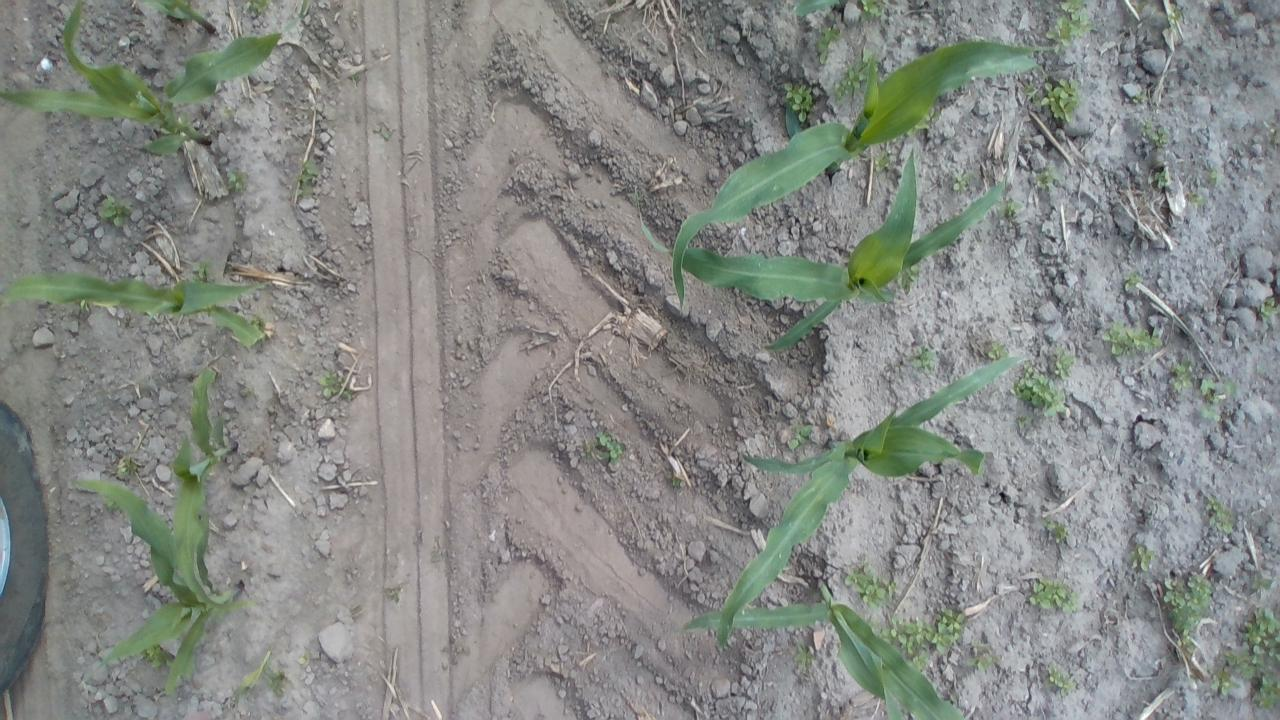Maize: (677, 38, 1045, 314), (706, 349, 1020, 660), (629, 144, 1015, 359), (673, 568, 991, 720), (72, 466, 250, 710), (8, 0, 274, 162), (0, 262, 283, 348), (171, 359, 255, 598)
Weeds: (1207, 608, 1280, 710), (879, 613, 969, 675), (1155, 566, 1211, 653), (230, 647, 296, 701), (838, 558, 900, 609), (1010, 364, 1068, 417), (1028, 74, 1082, 126), (1046, 1, 1102, 51), (1098, 322, 1166, 362), (1027, 574, 1085, 614), (837, 46, 884, 95), (1196, 374, 1235, 424), (1130, 0, 1182, 34), (1199, 496, 1237, 541), (894, 103, 936, 140), (807, 25, 846, 64), (590, 428, 630, 464), (778, 84, 814, 123), (292, 160, 322, 202), (317, 368, 355, 398), (1164, 354, 1192, 393), (1038, 516, 1071, 548), (1139, 118, 1170, 150), (99, 196, 132, 226), (906, 346, 944, 372), (966, 642, 996, 674), (1048, 346, 1076, 380), (1046, 664, 1074, 694), (143, 646, 178, 670), (1035, 164, 1063, 194), (784, 422, 816, 448), (791, 642, 817, 674), (224, 166, 253, 193), (857, 0, 888, 24), (1127, 542, 1153, 570), (984, 338, 1014, 360), (1257, 296, 1279, 325), (426, 540, 450, 566), (871, 149, 895, 175), (1182, 188, 1210, 210), (240, 0, 274, 18), (950, 165, 970, 195), (996, 196, 1018, 222), (1248, 566, 1267, 596), (300, 650, 324, 672), (1150, 166, 1170, 192), (190, 258, 213, 280), (1122, 271, 1146, 292), (1202, 168, 1224, 190), (115, 458, 134, 483), (1264, 120, 1280, 148), (344, 68, 364, 90), (385, 587, 405, 608), (375, 124, 396, 142), (1012, 411, 1031, 430)
